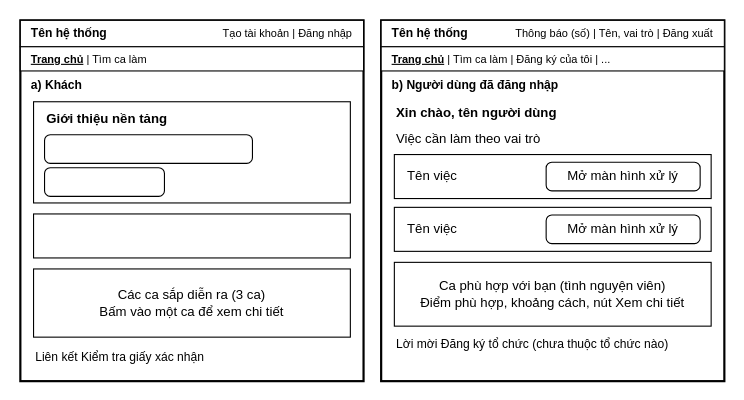
Image size: 744x400. Some labels were removed from this diagram. Each missing label, with the centre of its shape:
"Các bước tham gia (4 bước)" belongs at (191,235).
"Tạo tài khoản" belongs at (103,181).
"Xem các ca đang cần người" belongs at (147,148).
